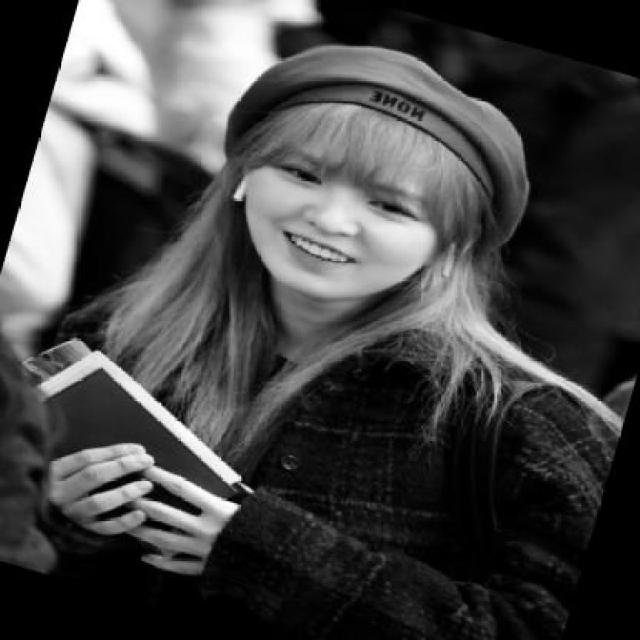earphone: (431, 234, 467, 301), (214, 162, 258, 207)
